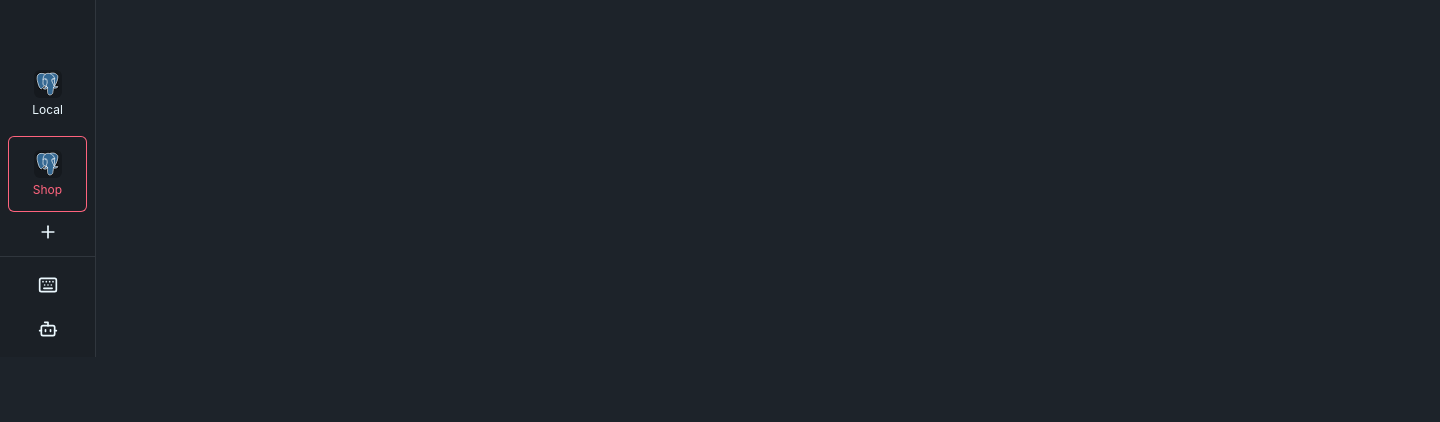
a connection marked production › stands apart on the rail and in its header
Click the button "Shop" at point(48, 174), box left=8, top=136, right=87, bottom=212
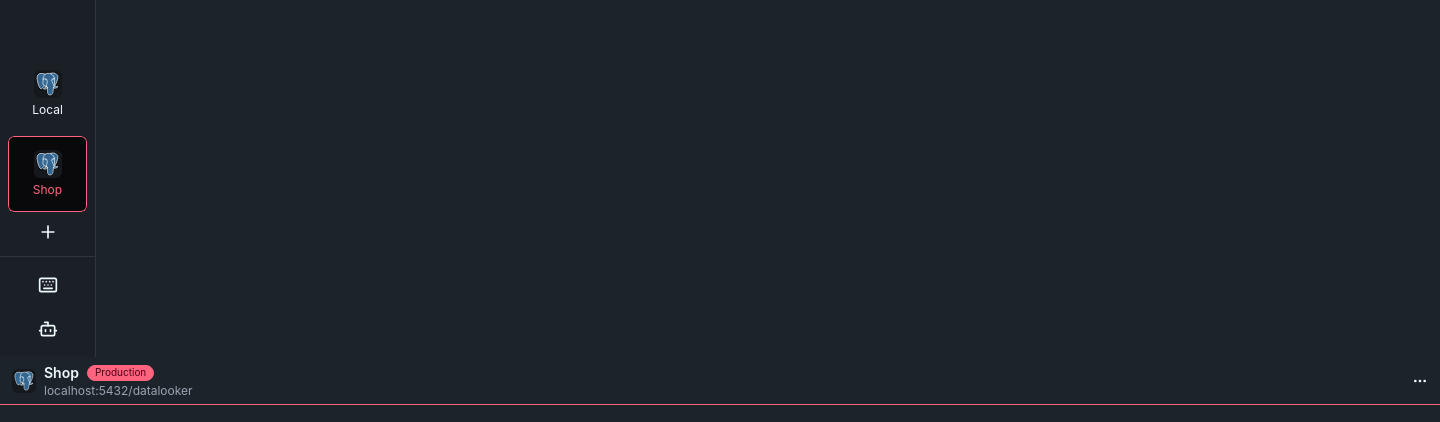
Check: the text "Production" is shown, box left=87, top=364, right=154, bottom=380
